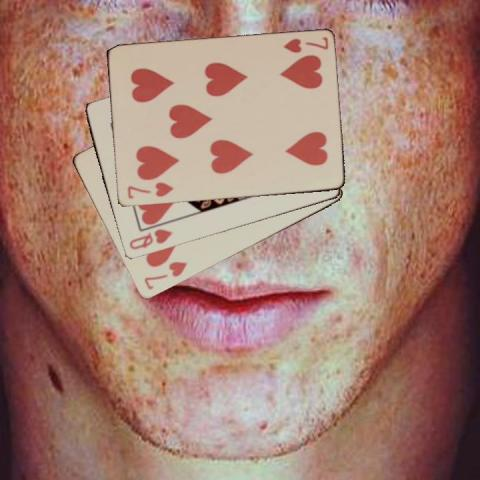7h: (140, 259, 188, 292), (124, 179, 175, 201), (280, 34, 329, 55)
Qh: (126, 226, 174, 251)
